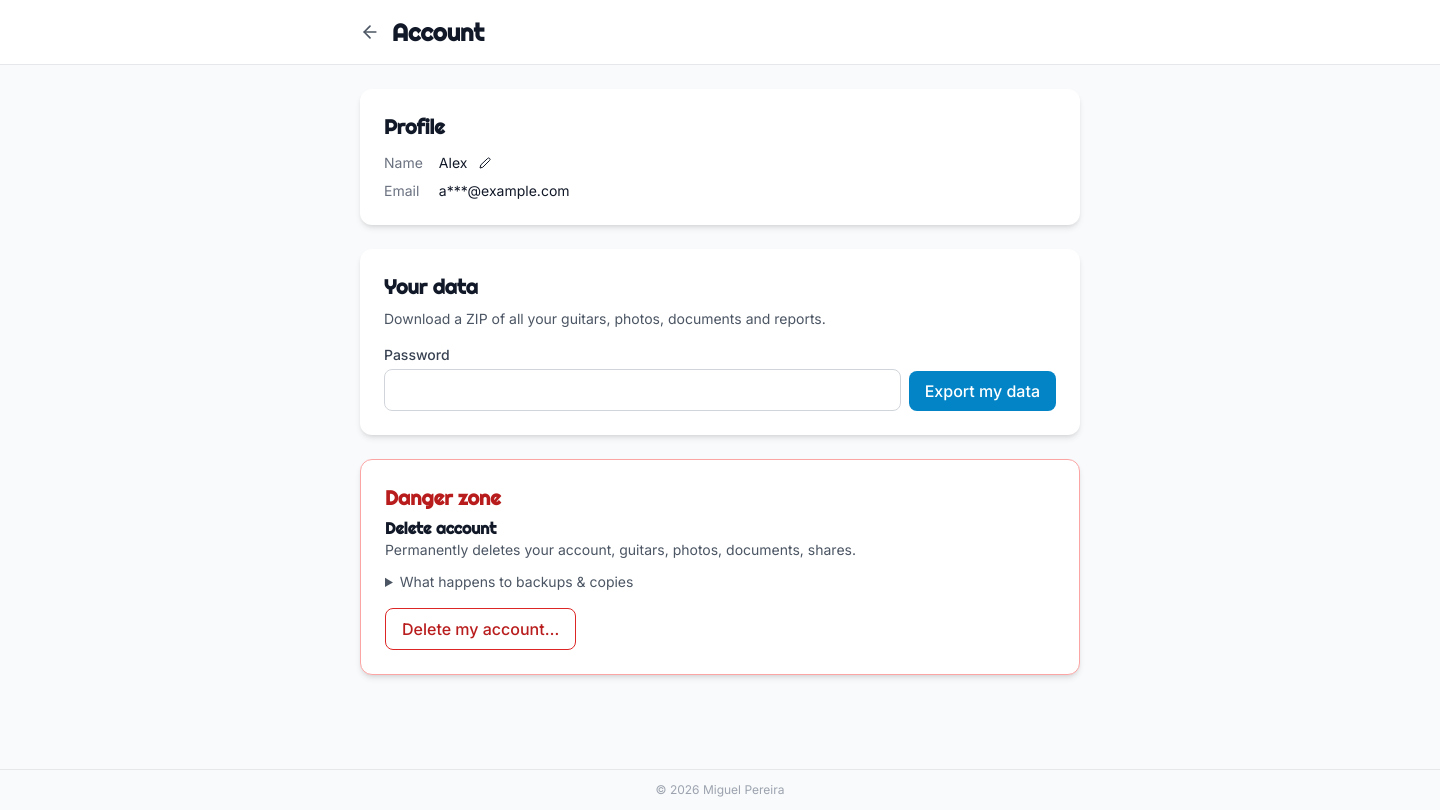
Test: Delete account dialog › Delete forever is disabled until a password is typed and the box is ticked
Click the button "Delete my account…".
click(481, 629)  # box [385,608,576,650]
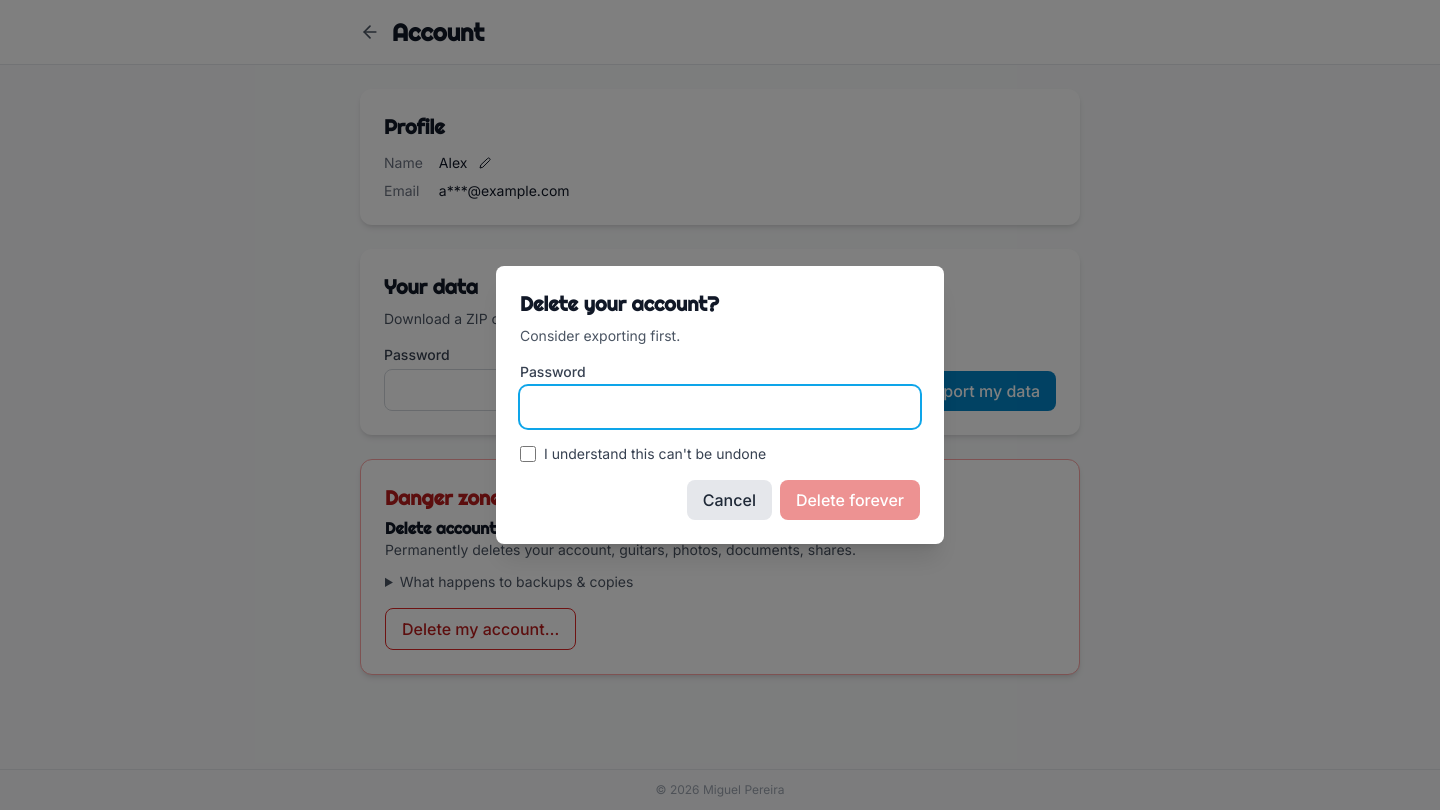
Check: the button "Delete forever" is disabled, box [780,480,920,520]
Type "pw" into the password field with id "delete-password".
click(720, 407); type("pw")  # box [520,386,920,428]
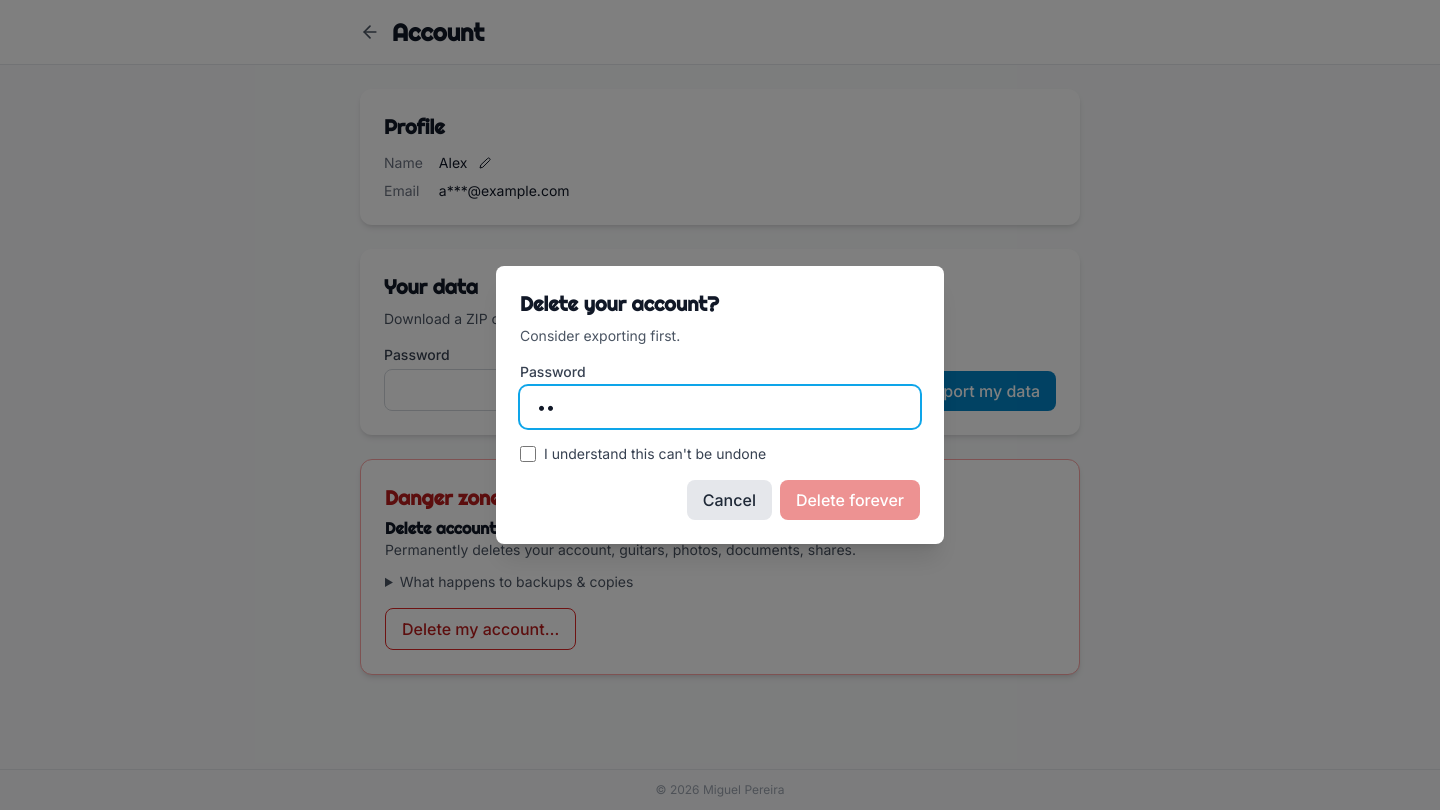
Check: the button "Delete forever" is disabled, box [780,480,920,520]
Click the checkbox labelled "I understand this can't be undone".
click(528, 454)  # box [520,446,536,462]
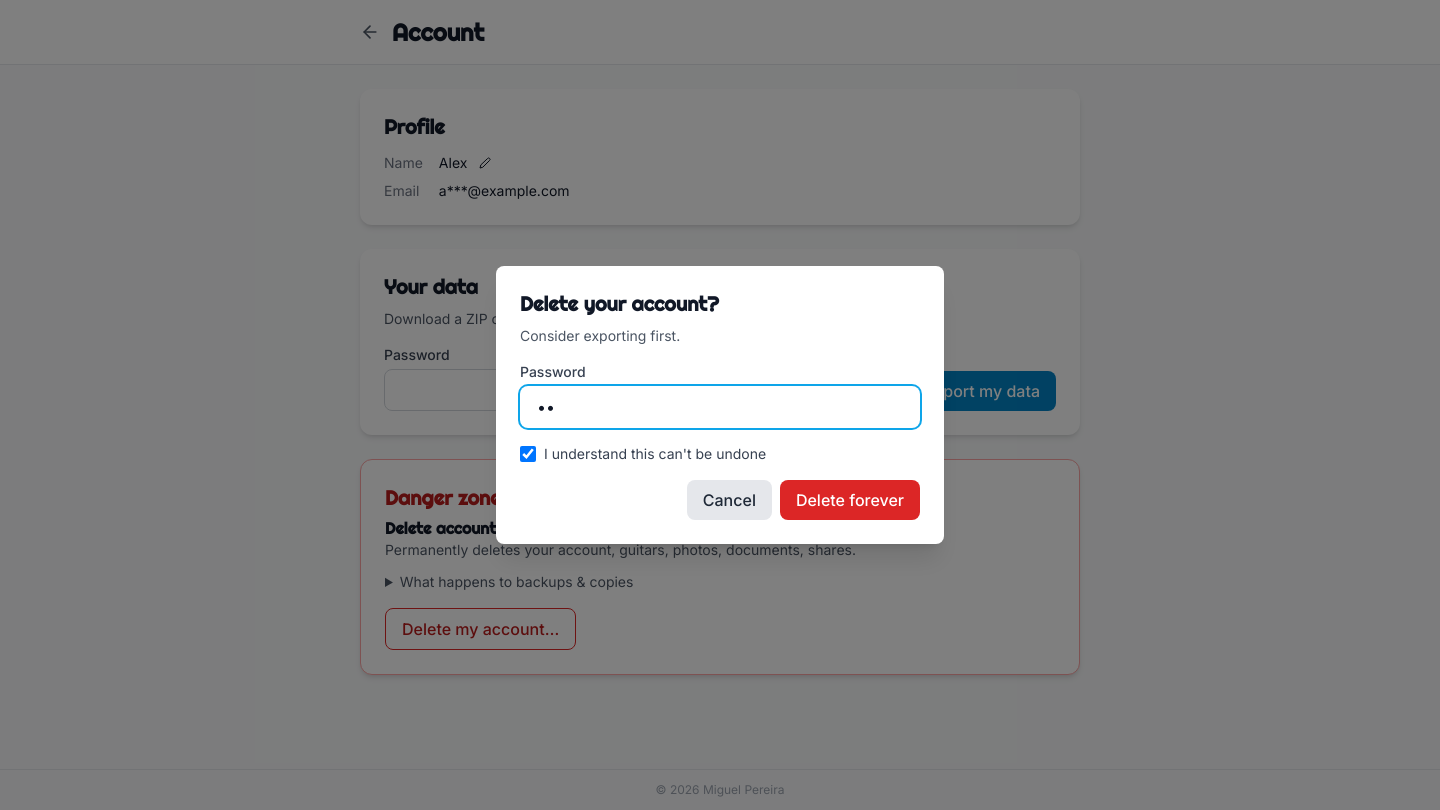
Check: the button "Delete forever" is enabled, box [780,480,920,520]
